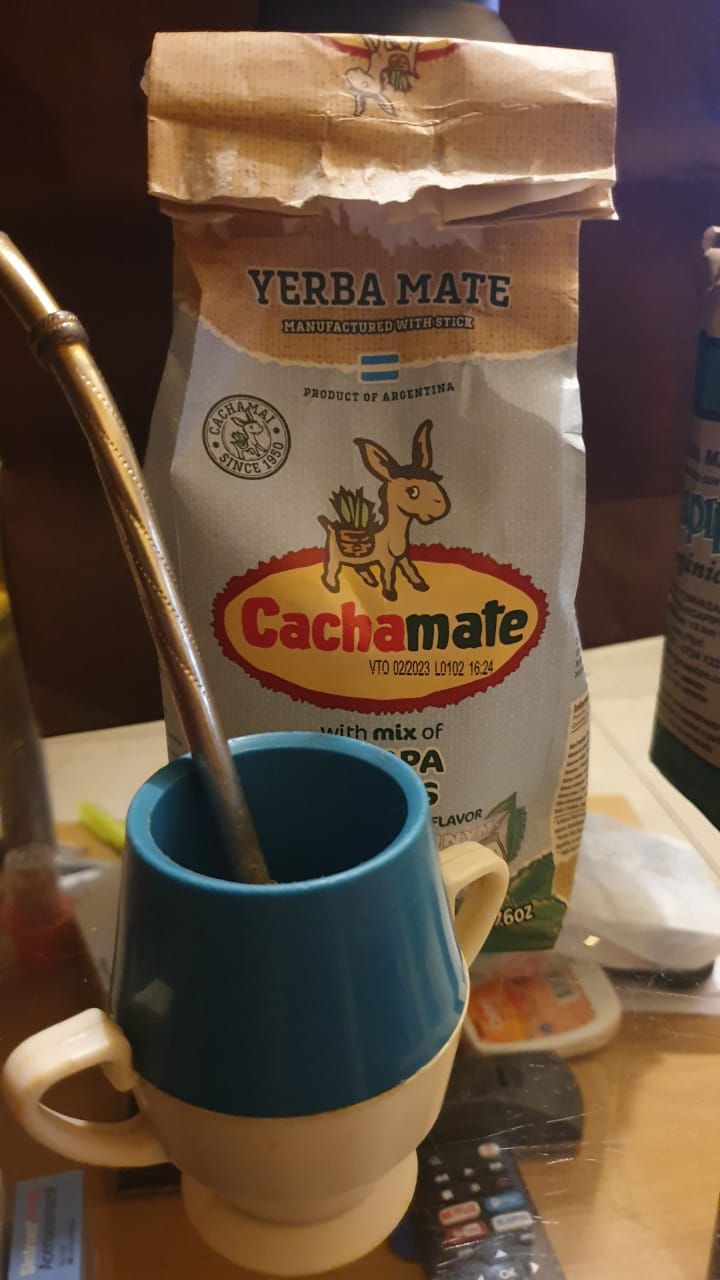mate: (2, 725, 524, 1273)
plastico: (6, 736, 512, 1280)
